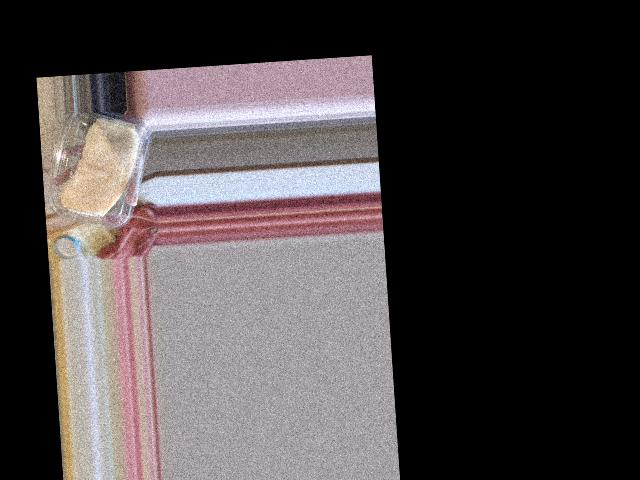cheese: (45, 108, 150, 234)
